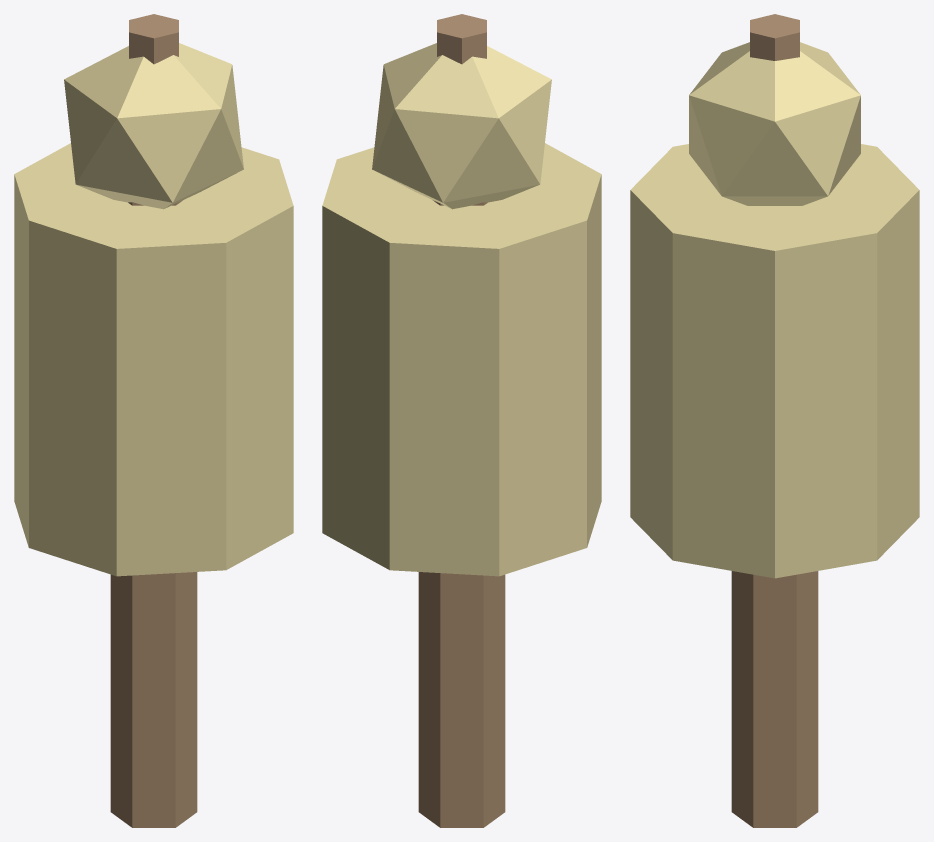
Rendered from prop_training_dummy.glb.
The picture shows the model from 3 angles, left to right: view 1: azimuth 30°, elevation 25°; view 2: azimuth 150°, elevation 25°; view 3: azimuth 270°, elevation 25°; orthographic projection.
Parts seen in each view (by area): view 1: Cylinder.001, Icosphere, Cylinder, Cylinder.002; view 2: Cylinder.001, Icosphere, Cylinder, Cylinder.002; view 3: Cylinder.001, Icosphere, Cylinder, Cylinder.002.
Part boxes in pixels (bbox=[...]): Cylinder.001: bbox=[14, 143, 293, 576]; Icosphere: bbox=[64, 43, 243, 209]; Cylinder: bbox=[110, 200, 197, 827]; Cylinder.002: bbox=[129, 14, 178, 64]; Cylinder.001: bbox=[322, 143, 601, 576]; Icosphere: bbox=[372, 43, 551, 209]; Cylinder: bbox=[418, 200, 505, 827]; Cylinder.002: bbox=[437, 14, 486, 64]; Cylinder.001: bbox=[630, 144, 919, 578]; Icosphere: bbox=[689, 42, 860, 205]; Cylinder: bbox=[731, 571, 818, 827]; Cylinder.002: bbox=[750, 14, 799, 60].
Bounding box in the file's own units: 0.8 × 2.4 × 0.8.
